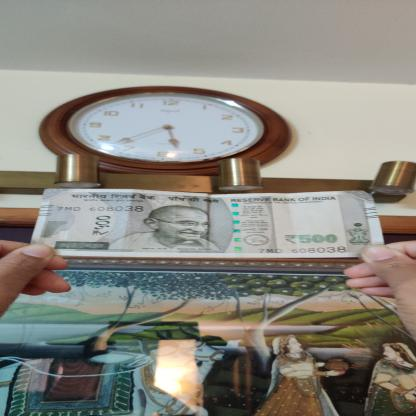New500Front: (32, 188, 389, 260)
